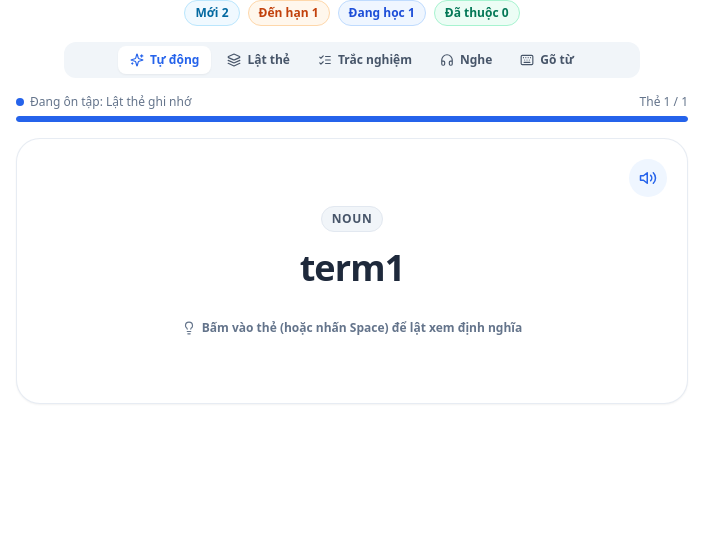
Test: StudyMode — giao diện › mặt trước chỉ có từ; lật thẻ hiện mặt sau và đủ 4 nút chấm điểm có phím tắt
Expected: the heading "term1" is shown, x1=300 y1=248 x2=404 y2=288
Expected: the text "nghĩa 1" is not shown
Step 1. Click the text "Bấm vào thẻ (hoặc nhấn Space) để lật xem định nghĩa" → [352, 328], box x1=182 y1=320 x2=522 y2=336
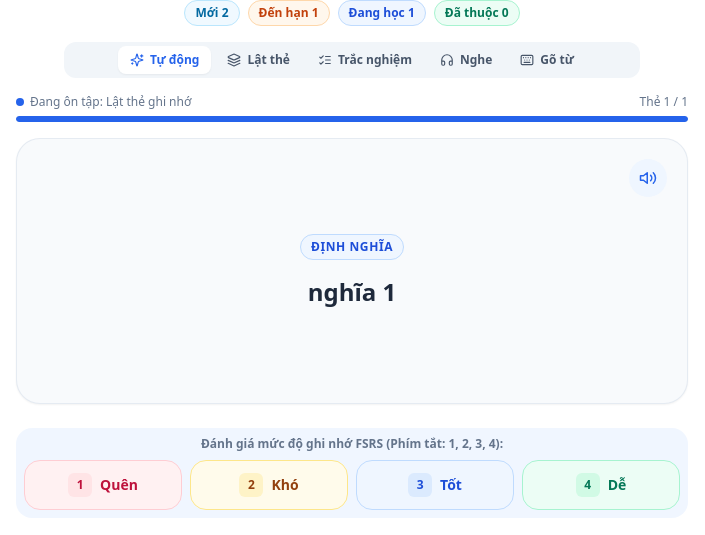
Expected: the heading "nghĩa 1" is shown, x1=308 y1=276 x2=396 y2=308
